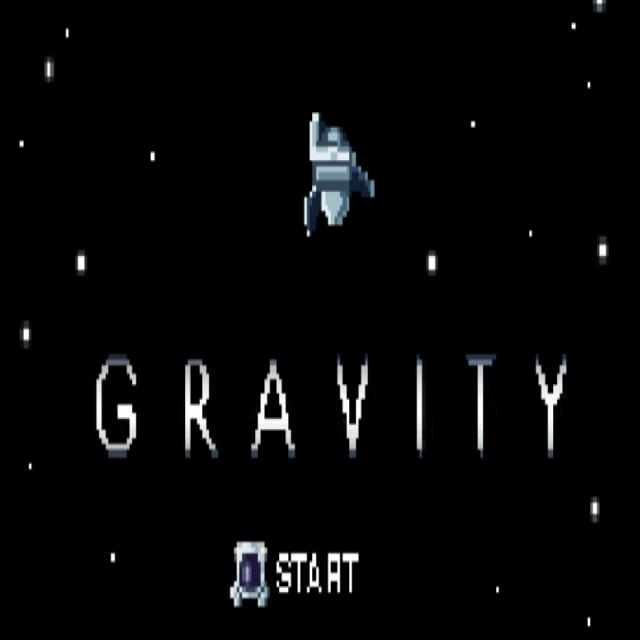Start-button: (220, 525, 370, 613)
